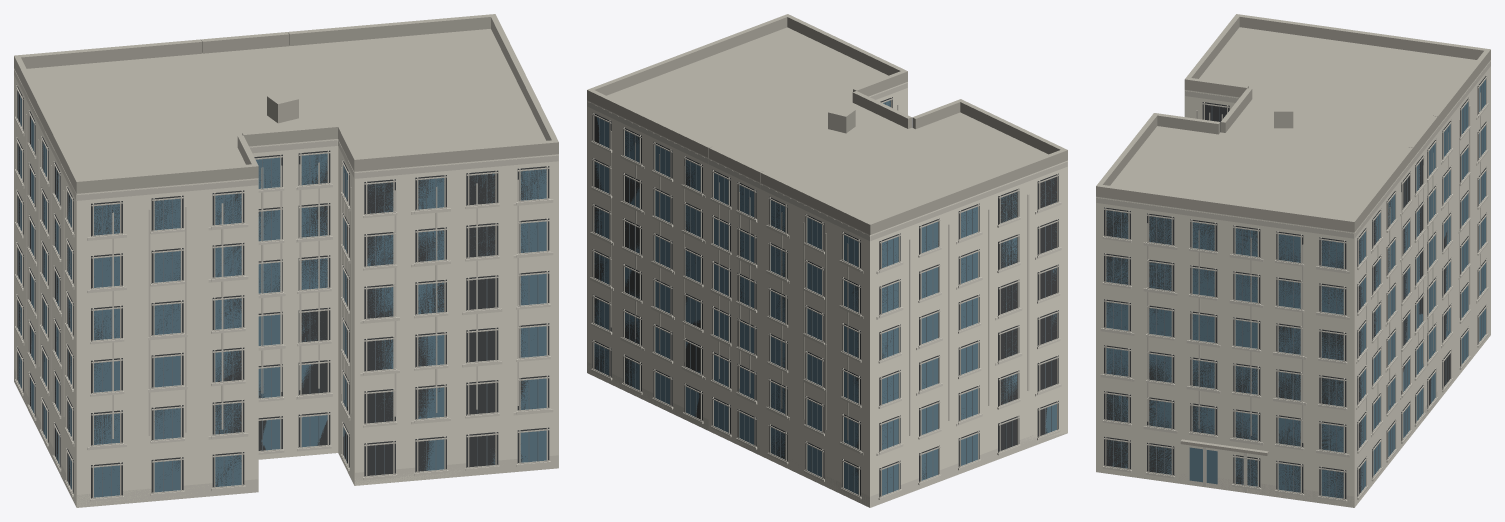
The model's file is cop_hotel_classico_04__way_1041988848.fbx.
3 renders of one model, left to right at view 1: azimuth 30°, elevation 25°; view 2: azimuth 150°, elevation 25°; view 3: azimuth 270°, elevation 25°, orthographic. The views are drawn at different scales.
Parts seen in each view (by area): view 1: cop_hotel_classico_04__way_1041988848_wall, cop_hotel_classico_04__way_1041988848_roof, cop_hotel_classico_04__way_1041988848_glass, cop_hotel_classico_04__way_1041988848_shadow, cop_hotel_classico_04__way_1041988848_trim, cop_hotel_classico_04__way_1041988848_stone, cop_hotel_classico_04__way_1041988848_metal; view 2: cop_hotel_classico_04__way_1041988848_wall, cop_hotel_classico_04__way_1041988848_roof, cop_hotel_classico_04__way_1041988848_glass, cop_hotel_classico_04__way_1041988848_trim, cop_hotel_classico_04__way_1041988848_shadow, cop_hotel_classico_04__way_1041988848_stone, cop_hotel_classico_04__way_1041988848_metal; view 3: cop_hotel_classico_04__way_1041988848_wall, cop_hotel_classico_04__way_1041988848_roof, cop_hotel_classico_04__way_1041988848_glass, cop_hotel_classico_04__way_1041988848_shadow, cop_hotel_classico_04__way_1041988848_trim, cop_hotel_classico_04__way_1041988848_stone, cop_hotel_classico_04__way_1041988848_metal.
Boxes of the visible parts, <box> form: cop_hotel_classico_04__way_1041988848_wall: <box>14,68,558,507</box>; cop_hotel_classico_04__way_1041988848_roof: <box>14,14,558,193</box>; cop_hotel_classico_04__way_1041988848_glass: <box>18,96,546,497</box>; cop_hotel_classico_04__way_1041988848_shadow: <box>16,84,549,498</box>; cop_hotel_classico_04__way_1041988848_trim: <box>14,69,558,498</box>; cop_hotel_classico_04__way_1041988848_stone: <box>14,116,558,507</box>; cop_hotel_classico_04__way_1041988848_metal: <box>18,92,538,496</box>; cop_hotel_classico_04__way_1041988848_wall: <box>587,82,1067,507</box>; cop_hotel_classico_04__way_1041988848_roof: <box>587,14,1067,234</box>; cop_hotel_classico_04__way_1041988848_glass: <box>594,100,1056,495</box>; cop_hotel_classico_04__way_1041988848_trim: <box>587,83,1067,497</box>; cop_hotel_classico_04__way_1041988848_shadow: <box>592,97,1058,497</box>; cop_hotel_classico_04__way_1041988848_stone: <box>587,141,1067,507</box>; cop_hotel_classico_04__way_1041988848_metal: <box>599,102,1051,493</box>; cop_hotel_classico_04__way_1041988848_wall: <box>1096,60,1490,507</box>; cop_hotel_classico_04__way_1041988848_roof: <box>1096,14,1490,455</box>; cop_hotel_classico_04__way_1041988848_glass: <box>1106,79,1485,498</box>; cop_hotel_classico_04__way_1041988848_shadow: <box>1104,75,1486,498</box>; cop_hotel_classico_04__way_1041988848_trim: <box>1096,61,1490,500</box>; cop_hotel_classico_04__way_1041988848_stone: <box>1100,103,1488,507</box>; cop_hotel_classico_04__way_1041988848_metal: <box>1113,82,1483,497</box>.
Size of the model in its own units: 2916 by 1912 by 2338.
